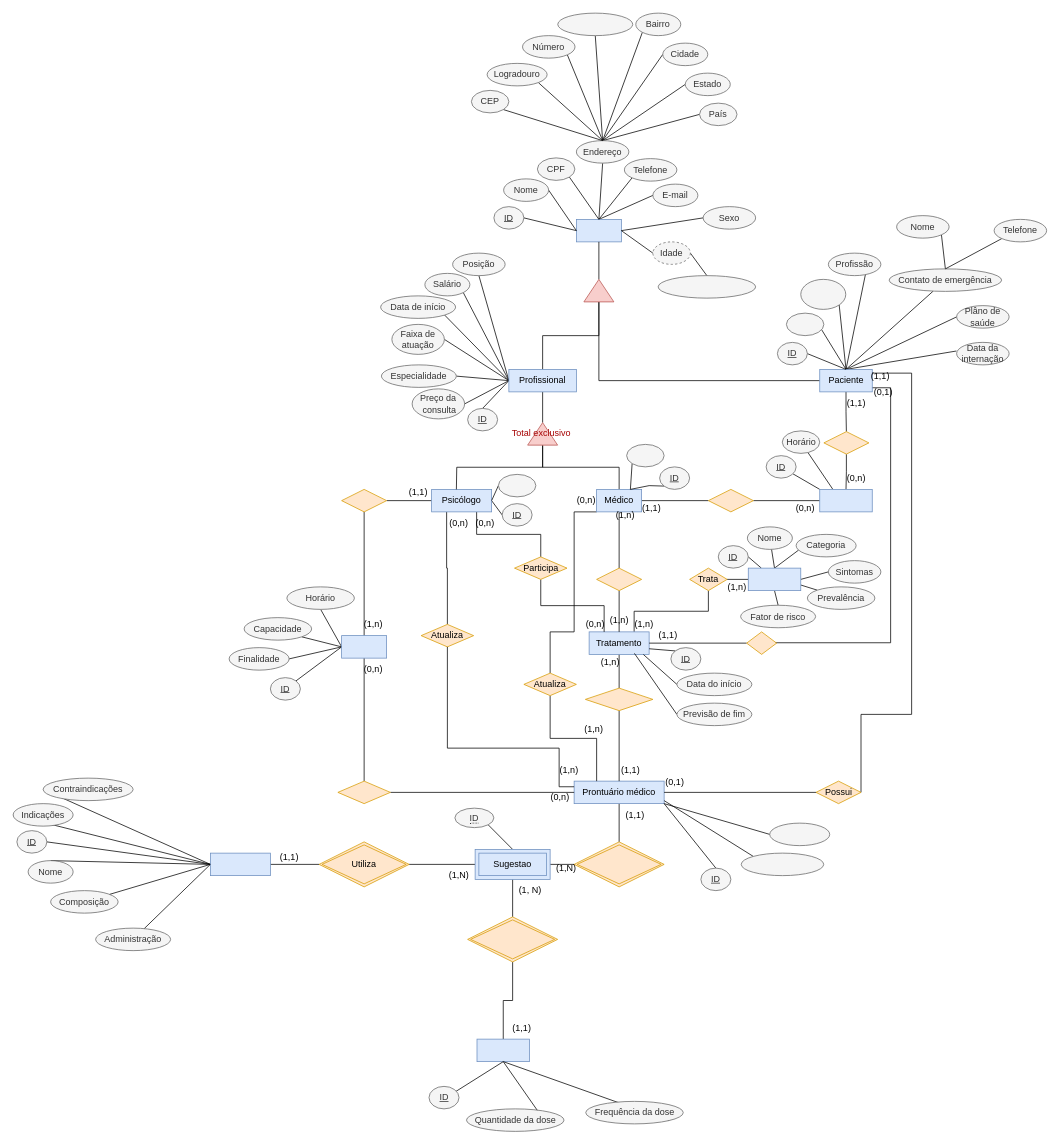
This 1060x1145 diagram has some shape labels left out. Each missing label, with the box of its shape:
Acompanha: (585, 687, 653, 711)
Atende: (341, 489, 387, 512)
Complemento: (557, 12, 633, 36)
Consulta: (819, 489, 872, 512)
Contem: (573, 841, 664, 887)
CRM: (626, 444, 664, 467)
CRP: (498, 474, 536, 497)
Data de criação: (740, 852, 824, 876)
Data de nascimento: (657, 275, 756, 298)
Descrições: (769, 822, 830, 846)
Dosagem: (476, 1038, 530, 1062)
Estado civil: (800, 279, 846, 309)
Faz: (746, 631, 777, 654)
Indica: (596, 567, 642, 591)
Marca: (823, 431, 869, 454)
Medicação: (210, 852, 270, 876)
Peso: (786, 312, 824, 336)
Pessoa: (576, 219, 621, 242)
Presente: (337, 780, 390, 804)
Realiza: (708, 489, 753, 512)
Tem: (467, 916, 558, 962)
Terapia: (341, 635, 387, 658)
Total não exclusivo: (583, 279, 614, 302)
Transtorno: (748, 567, 801, 591)
